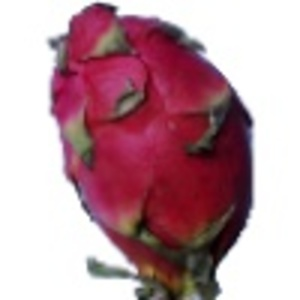pitaia: (48, 1, 257, 300)
